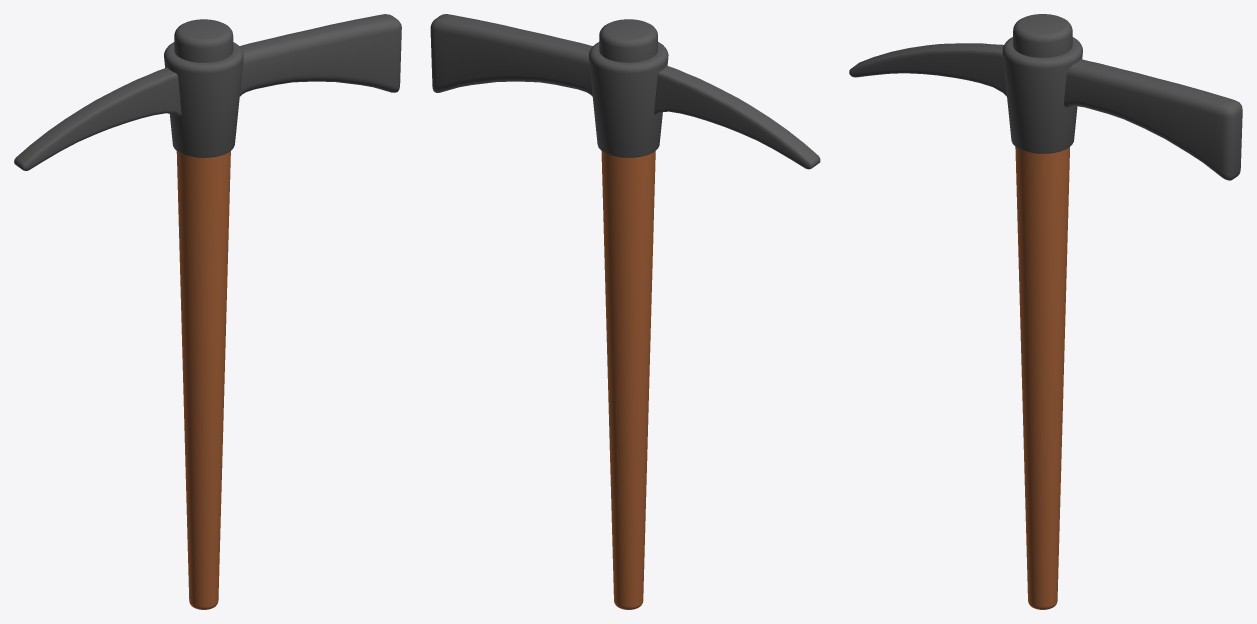
The model's file is Axe.fbx.
3 renders of one model, left to right at view 1: azimuth 30°, elevation 25°; view 2: azimuth 150°, elevation 25°; view 3: azimuth 330°, elevation 25°, orthographic.
Visible parts, largest first — view 1: Cylinder; view 2: Cylinder; view 3: Cylinder.
Boxes of the visible parts, bbox=[...] form: Cylinder: bbox=[14, 14, 401, 609]; Cylinder: bbox=[430, 14, 820, 609]; Cylinder: bbox=[849, 14, 1242, 609].
Bounding box in the file's own units: 393 × 568 × 71.4.
